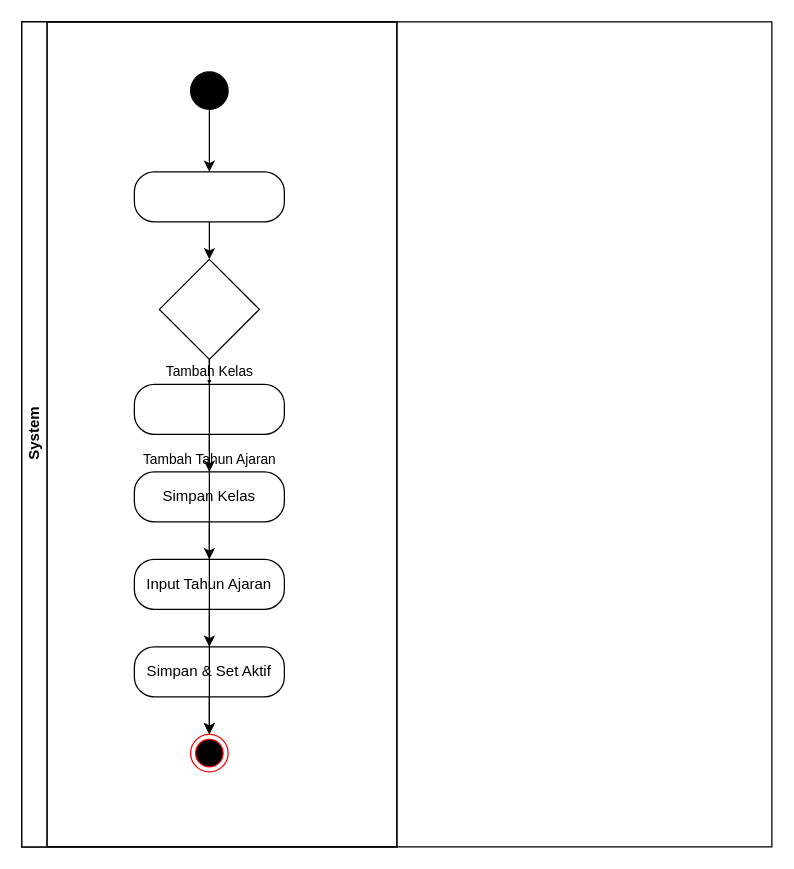
Some shapes in this 794 by 869 pixel diagram are drawn without their labels. The shapes that lost their labels are listed below. From the top down, each one's box as (x1, y1, x2, y2) in pixels, then its label:
(133, 171, 284, 222): Pilih Menu Data Master
(158, 258, 259, 359): Pilih Aksi
(133, 383, 284, 434): Input Data Kelas
